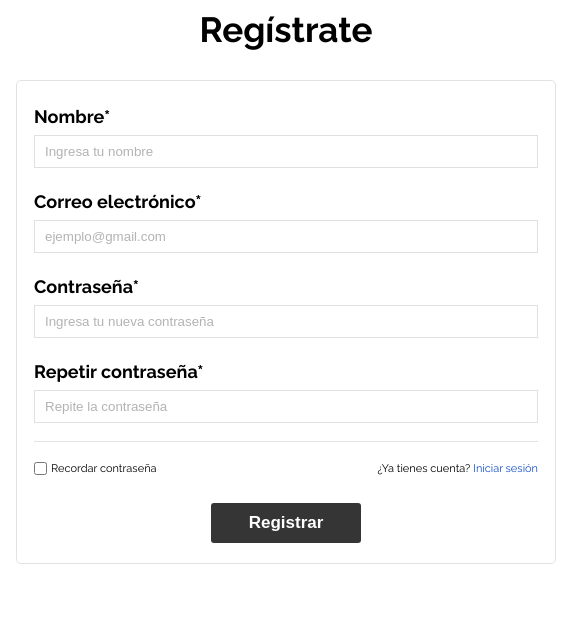
Scenario: Register › muestra error si las contraseñas no coinciden
The width and height of the screenshot is (573, 619).
Type "nico@test.com" into the field labelled "Correo electrónico*".
click(286, 236); type("nico@test.com")  # box [34,220,538,253]
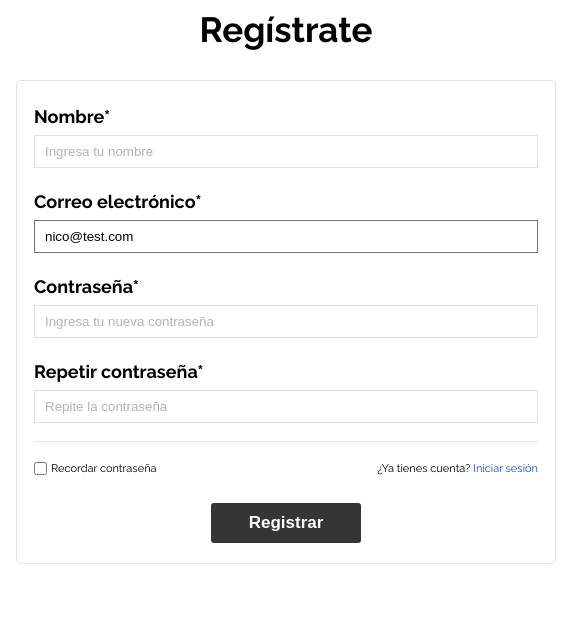
Type "abc12345" into the password field labelled "Contraseña*".
click(286, 322); type("abc12345")  # box [34,305,538,338]
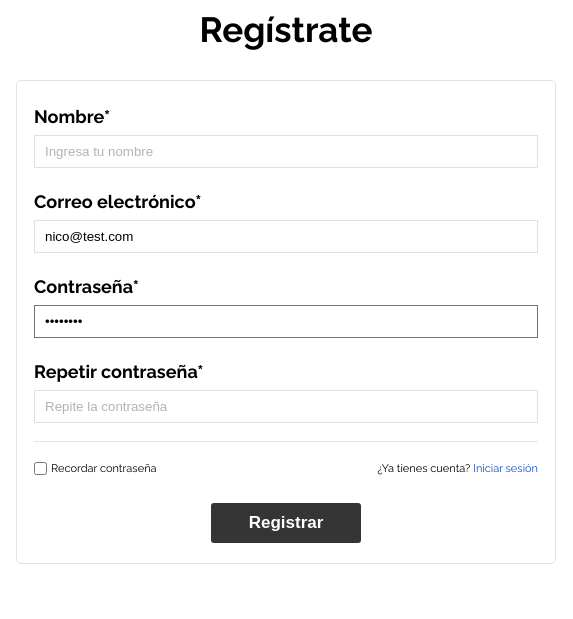
Type "abc12346" into the password field labelled "Repetir contraseña*".
click(286, 406); type("abc12346")  # box [34,390,538,423]
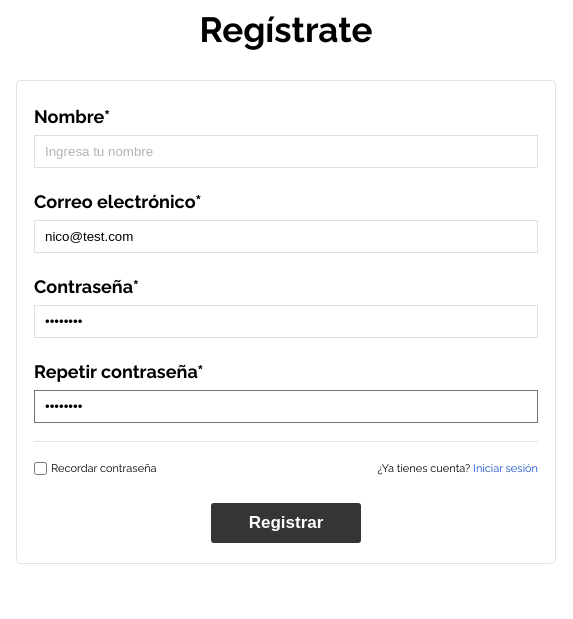
Click the button "Registrar".
click(286, 523)  # box [211,503,361,543]
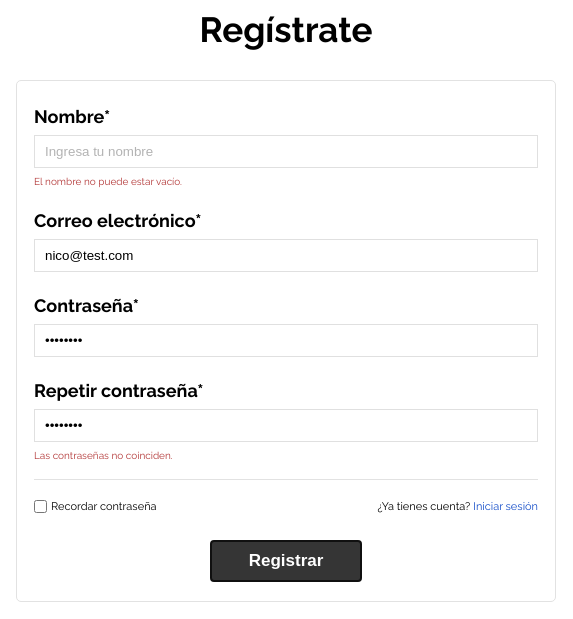
Expected: the text "Las contraseñas no coinciden." is shown, [34,450,173,461]
